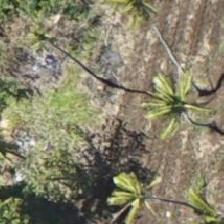coconut_tree: (134, 63, 223, 153), (0, 0, 89, 89), (94, 152, 184, 223), (101, 0, 191, 66), (165, 170, 223, 223)
